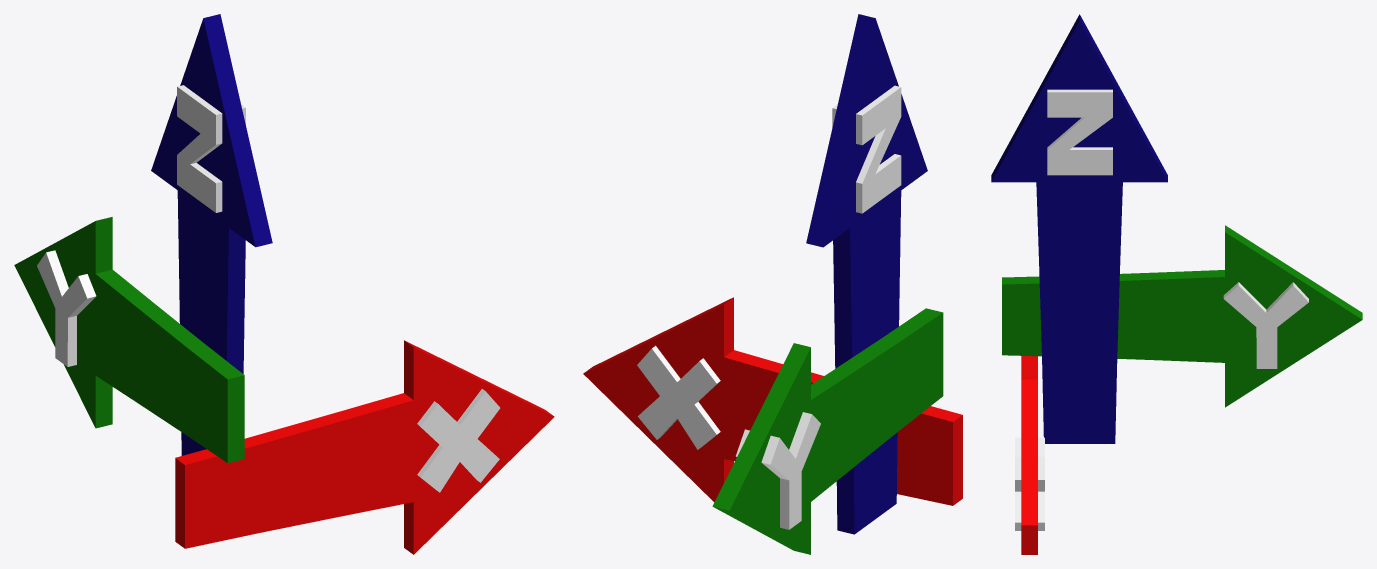
Rendered from unit.dae.
3 renders of one model, left to right at view 1: azimuth 30°, elevation 25°; view 2: azimuth 150°, elevation 25°; view 3: azimuth 270°, elevation 25°, orthographic. The views are drawn at different scales.
Parts seen in each view (by area): view 1: Box03; view 2: Box03; view 3: Box03.
Boxes of the visible parts, bbox=[...] form: Box03: bbox=[14, 14, 554, 554]; Box03: bbox=[583, 14, 962, 554]; Box03: bbox=[991, 14, 1362, 554].
Size of the model in its own units: 212 by 304 by 218.
